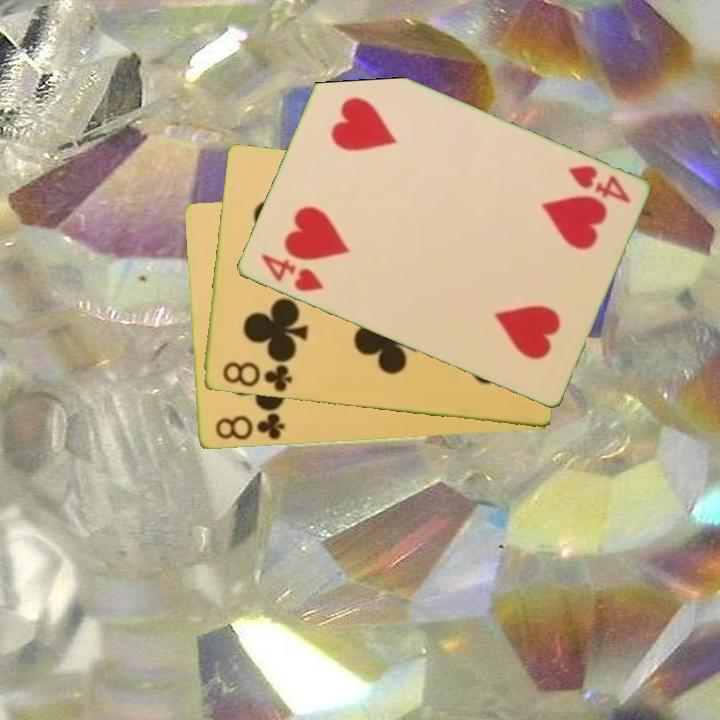4h: (256, 250, 326, 295), (564, 162, 634, 207)
8c: (218, 358, 295, 395), (211, 410, 288, 443)
